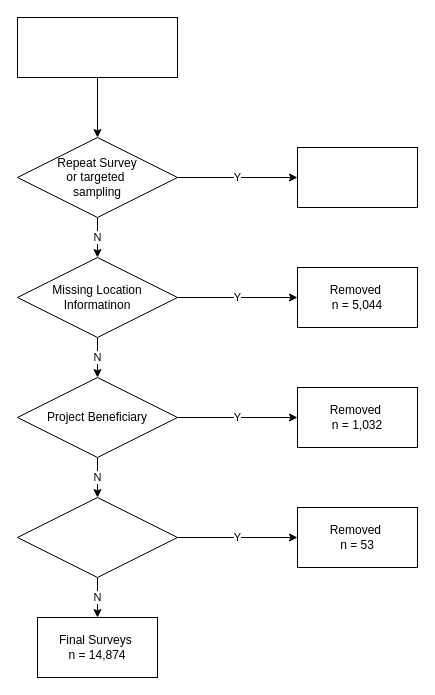
Image size: 435x695. Some labels were removed from this diagram. The shapes that lost their labels are listed below. From the top down, each one's centre as x and y in pixels, then its label:
At point (97, 47): "Total RHoMIS Surveys n = 35,371".
At point (357, 177): "Removed n = 14,423".
At point (97, 537): "Missing indicators".
